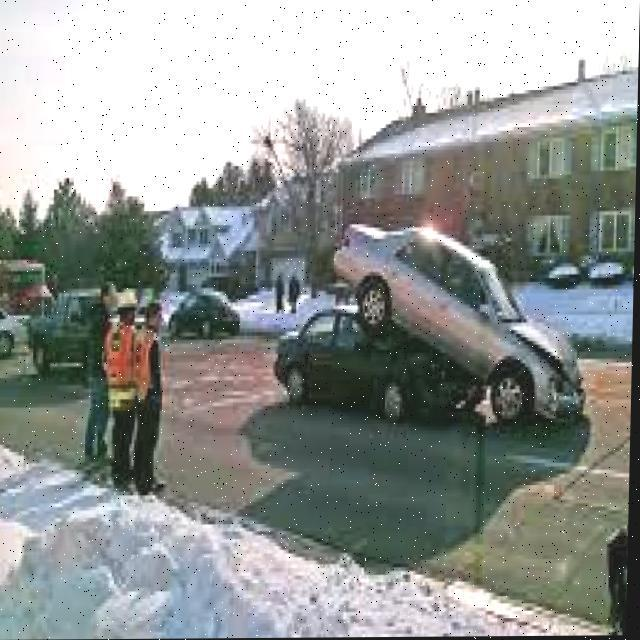multiple_accident: (266, 196, 594, 469)
